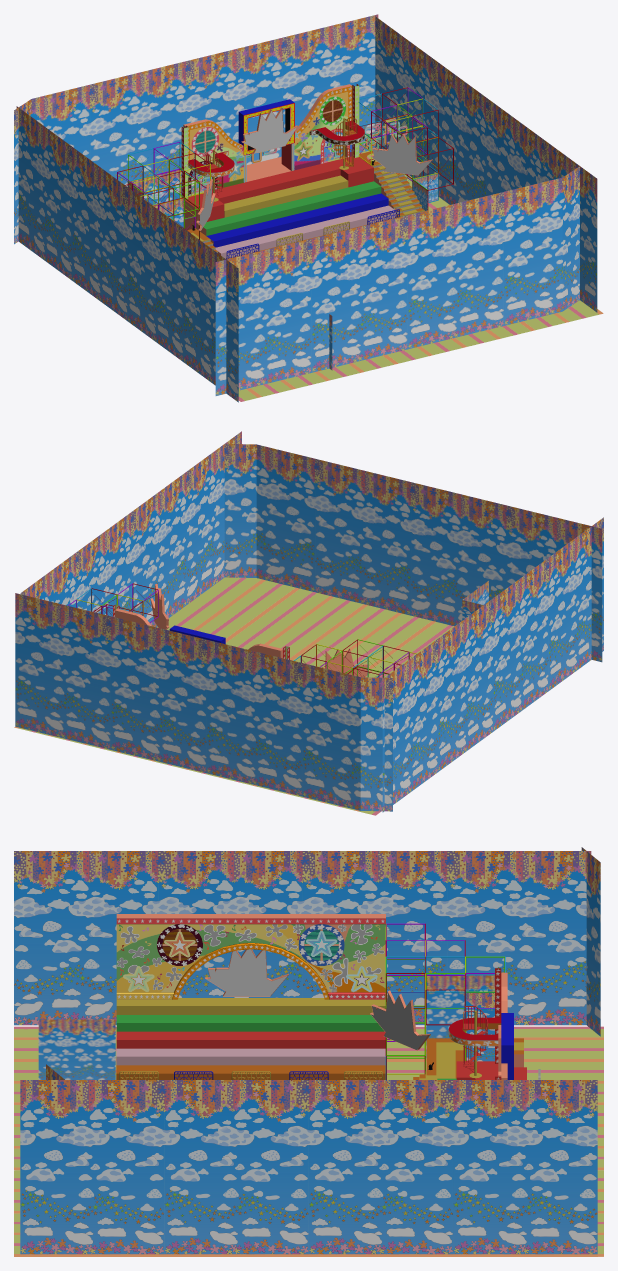
File: Studio.fbx
3 views of the same model, one above another, from view 1: azimuth 30°, elevation 25°; view 2: azimuth 150°, elevation 25°; view 3: azimuth 270°, elevation 25° (orthographic). The views are drawn at different scales.
Visible parts, largest first — view 1: カーテン, General, 背景, 床, ミニカーテン, Squares; view 2: カーテン, 床, General, 背景, ミニカーテン; view 3: カーテン, General, 背景, 床, ミニカーテン.
Boxes of the visible parts, x1,y1,x2,y2 form: カーテン: (14,14,597,402); General: (117,87,453,259); 背景: (181,84,359,199); 床: (180,150,603,401); ミニカーテン: (127,170,437,370); Squares: (193,118,407,192); カーテン: (15,431,603,812); 床: (14,577,454,815); General: (68,583,416,677); 背景: (113,604,289,659); ミニカーテン: (462,580,488,620); カーテン: (14,847,600,1254); General: (116,923,523,1079); 背景: (116,914,526,1079); 床: (14,1026,603,1256); ミニカーテン: (38,975,494,1079).
Bounding box in the file's own units: 8800 × 3000 × 9200.
